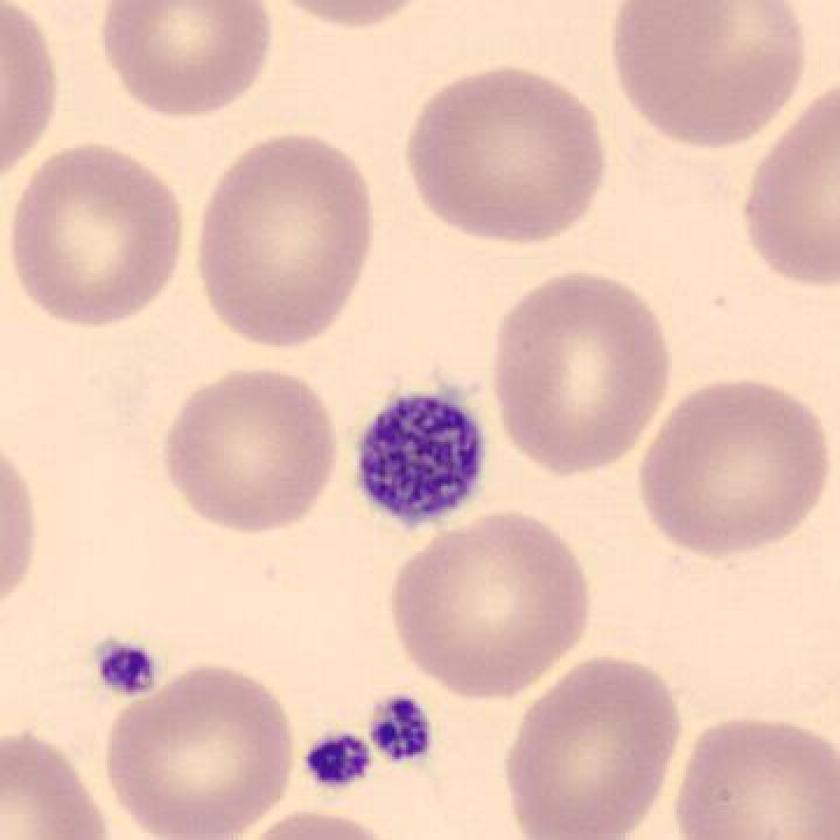platelets: (349, 380, 493, 538), (365, 681, 442, 774), (297, 721, 379, 799), (88, 626, 165, 709)
